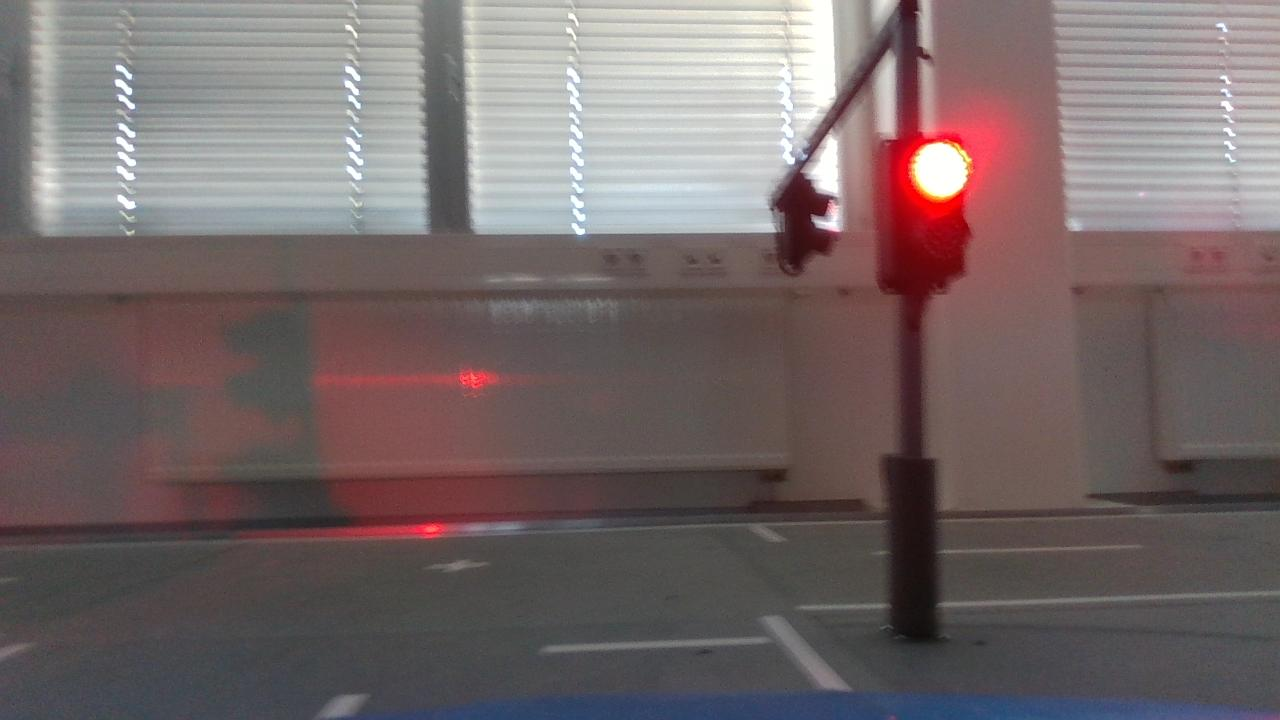traffic_light_red: (856, 124, 988, 308)
